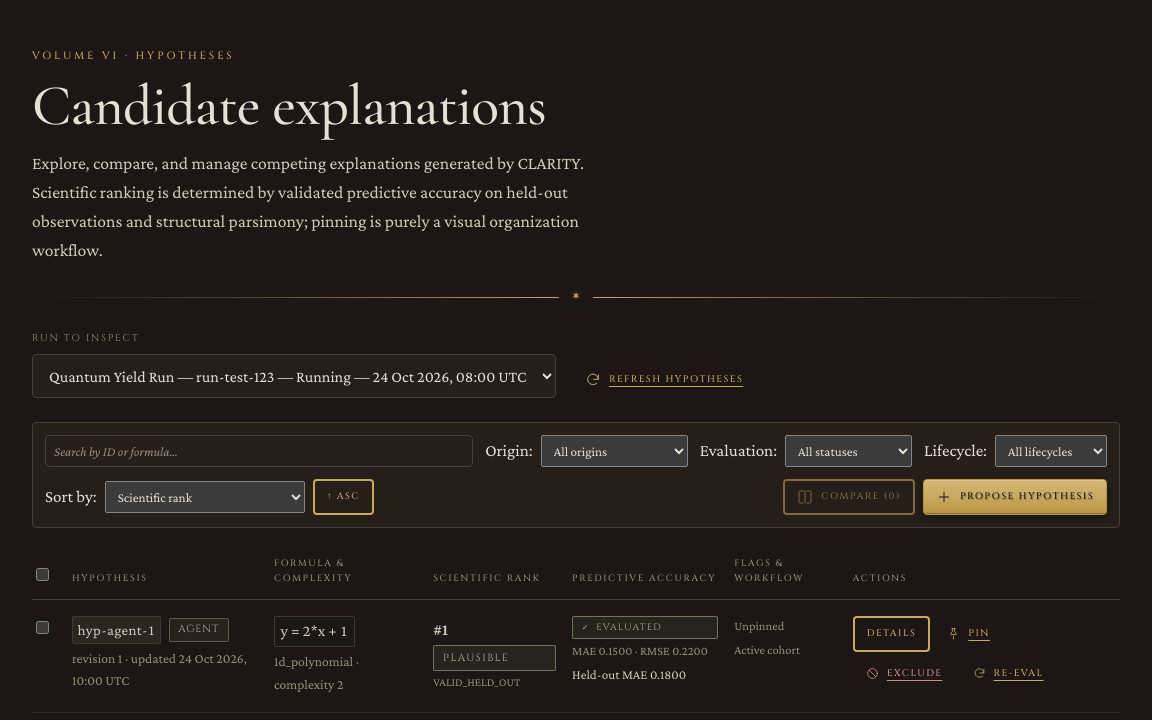
Test: HypothesesPage Component › supports filtering by origin, evaluation status, and lifecycle state
Expected: the text "hyp-agent-1" is shown, [72, 616, 161, 644]
# Filter by Origin: Researcher
Select "Researcher proposed" in the dropdown labelled "Origin:". click: (614, 451)
box: [541, 435, 688, 467]
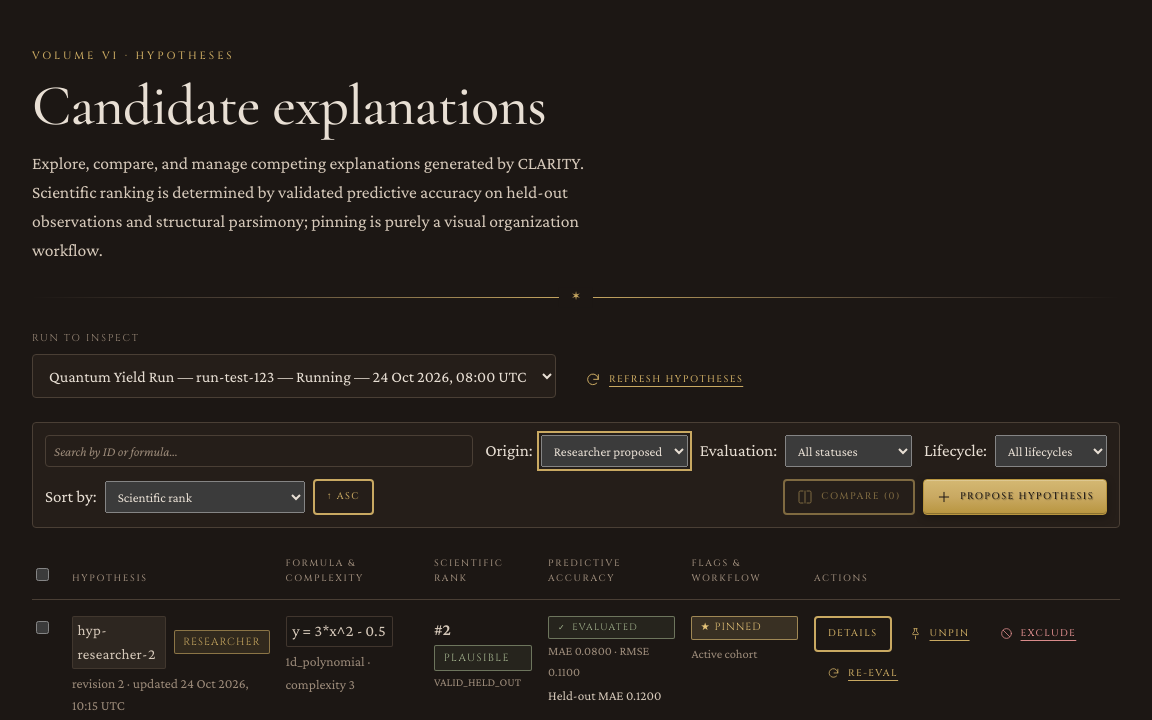
Expected: the text "hyp-researcher-2" is shown, [72, 616, 166, 668]
Now the text "hyp-agent-1" is gone
# Filter by Lifecycle: Excluded only
Select "All origins" in the dropdown labelled "Origin:". click: (614, 451)
box: [541, 435, 688, 467]
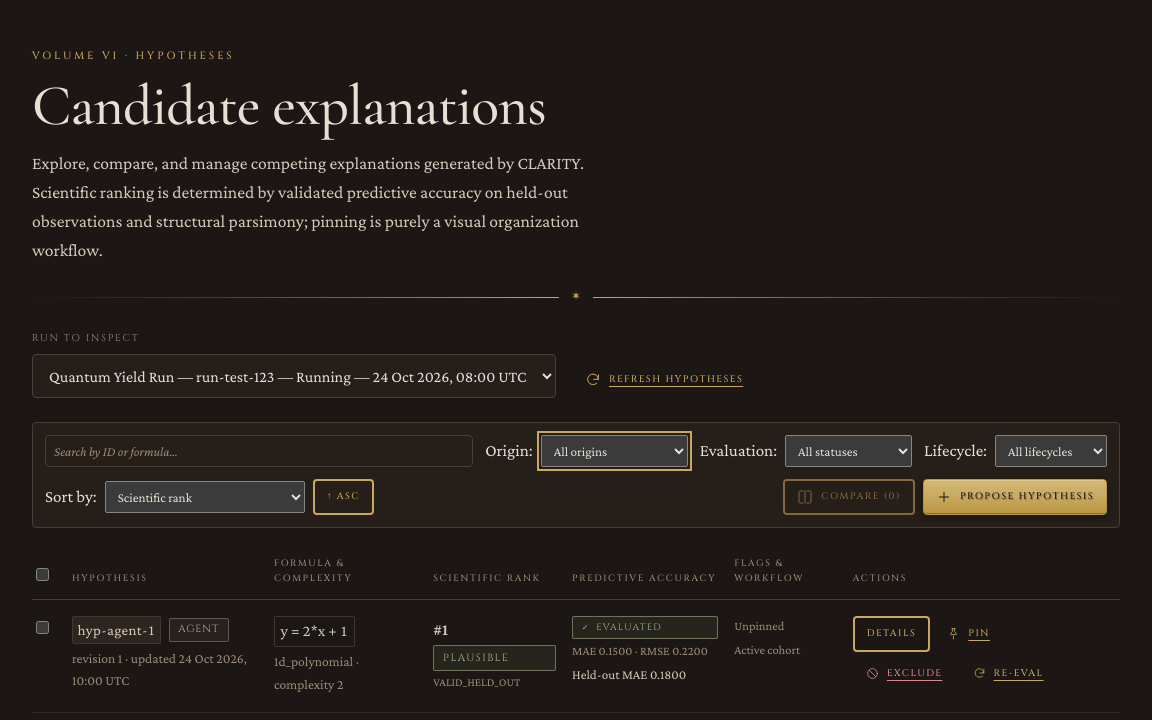
Select "Excluded only" in the dropdown labelled "Lifecycle:". click: (1051, 451)
box: [995, 435, 1107, 467]
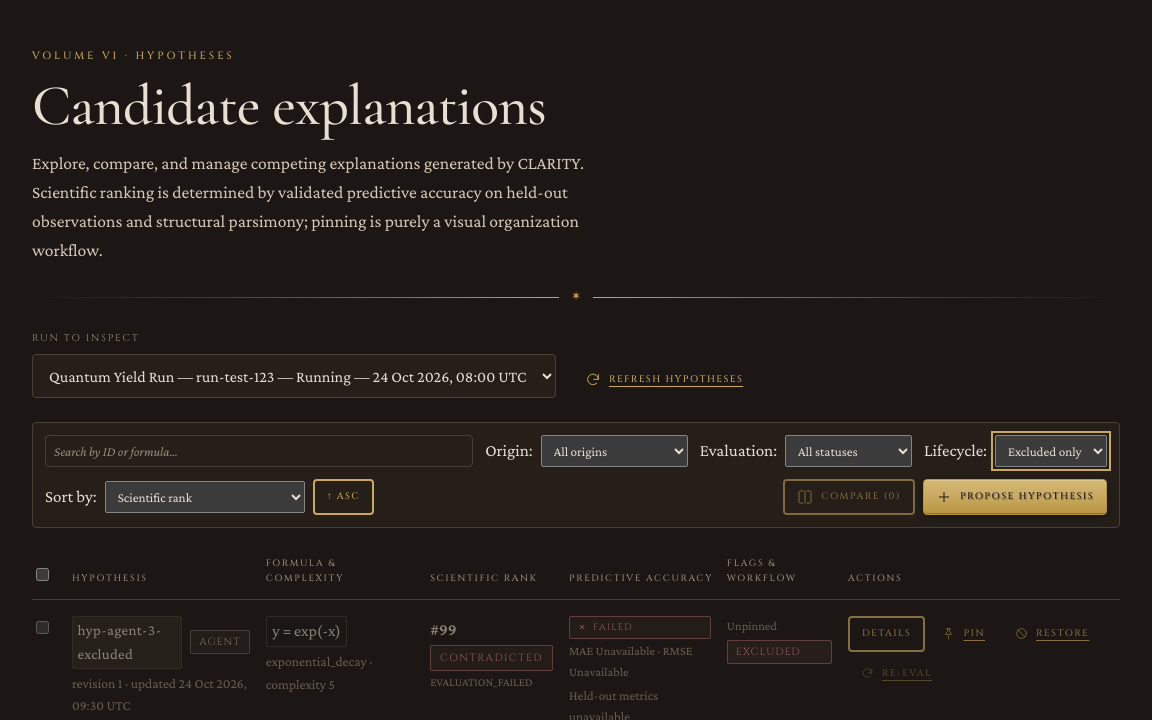
Now the text "hyp-agent-3-excluded" is shown, box [72, 616, 182, 668]
Now the text "hyp-agent-1" is gone
# Search query
Select "All lifecycles" in the dropdown labelled "Lifecycle:". click: (1051, 451)
box: [995, 435, 1107, 467]
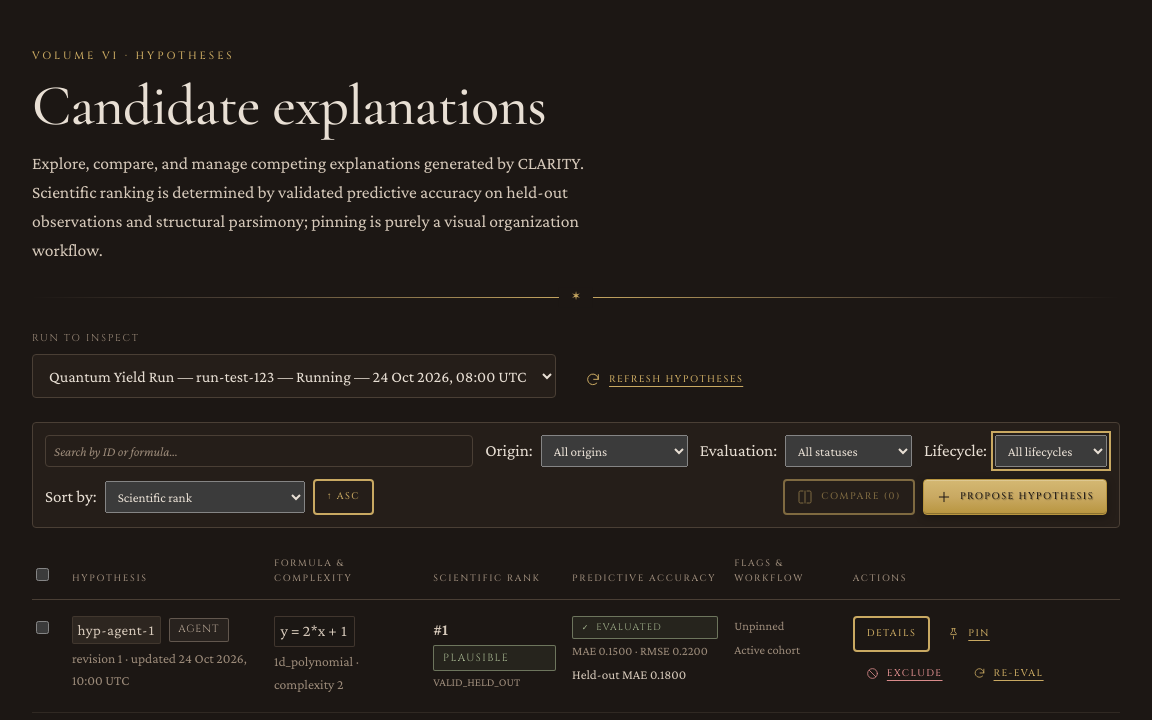
Type "exp(-x)" into the search field with placeholder "Search by ID or formula…". click: (259, 451)
box: [45, 435, 473, 467]
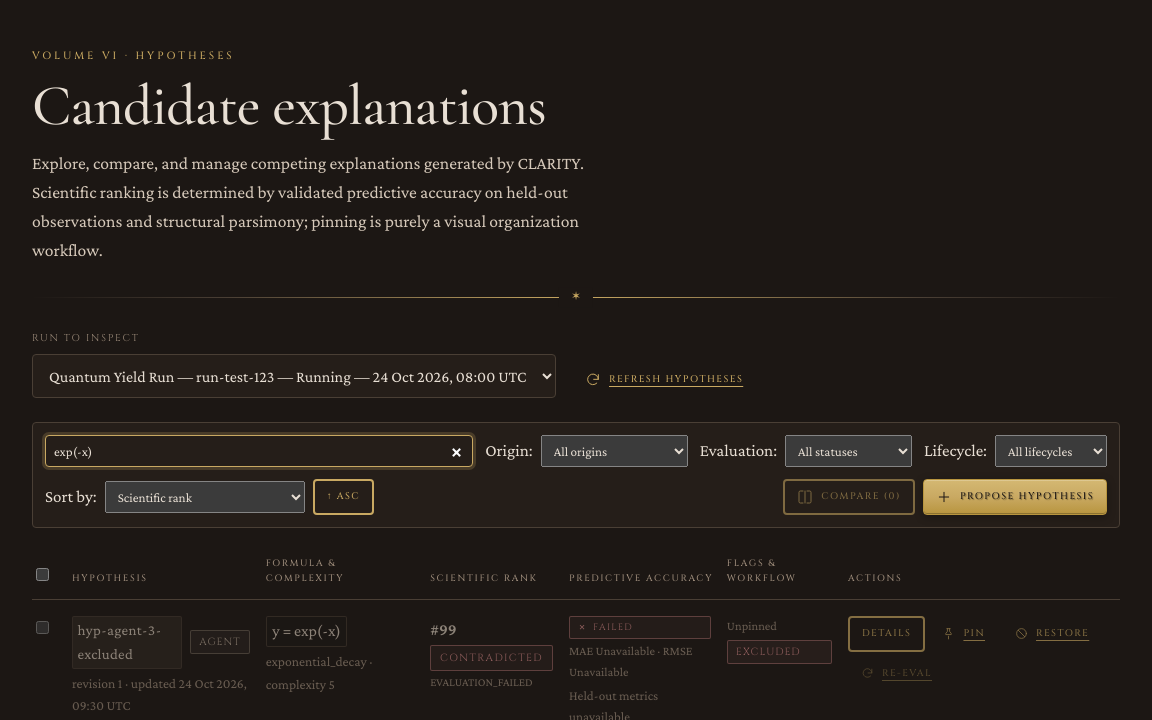
Now the text "hyp-agent-3-excluded" is shown, box [72, 616, 182, 668]
Now the text "hyp-agent-1" is gone
